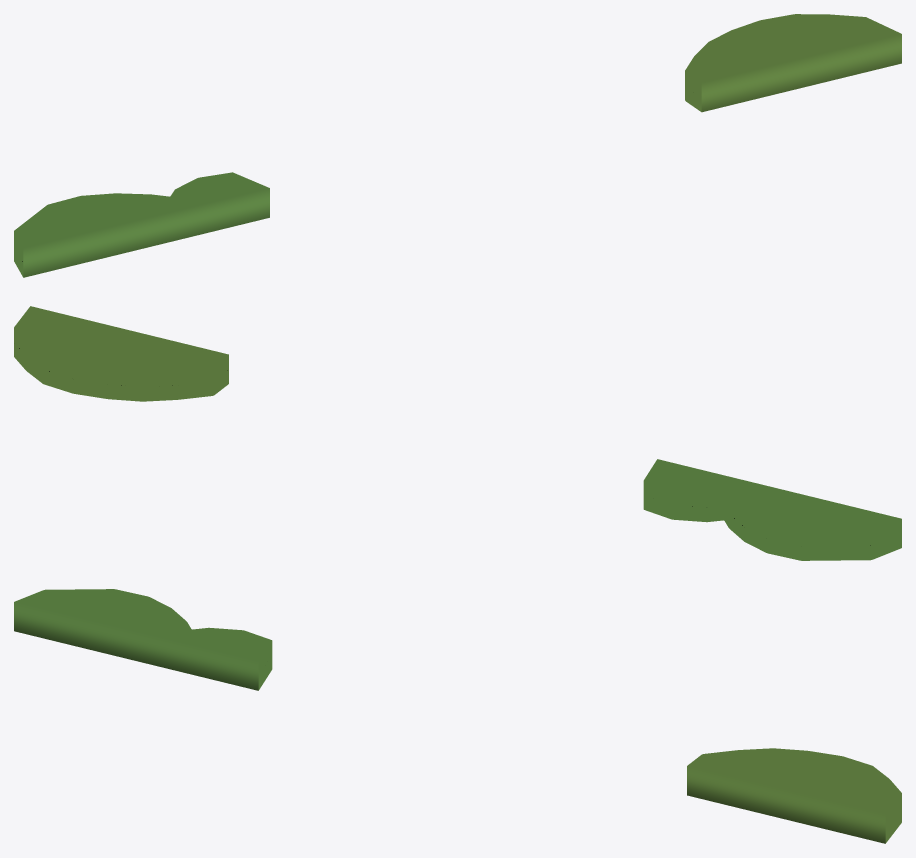
The model's file is backbackhillfront.fbx.
The picture shows the model from 3 angles, top to bottom: view 1: azimuth 30°, elevation 25°; view 2: azimuth 150°, elevation 25°; view 3: azimuth 330°, elevation 25°; orthographic projection.
Visible parts, largest first — view 1: backbackhillsfront1; view 2: backbackhillsfront1; view 3: backbackhillsfront1.
Boxes of the visible parts, bbox=[...] form: backbackhillsfront1: bbox=[14, 14, 901, 277]; backbackhillsfront1: bbox=[14, 306, 901, 560]; backbackhillsfront1: bbox=[14, 589, 901, 843].
Bounding box in the file's own units: 0.6217 × 0.02 × 0.0605.
